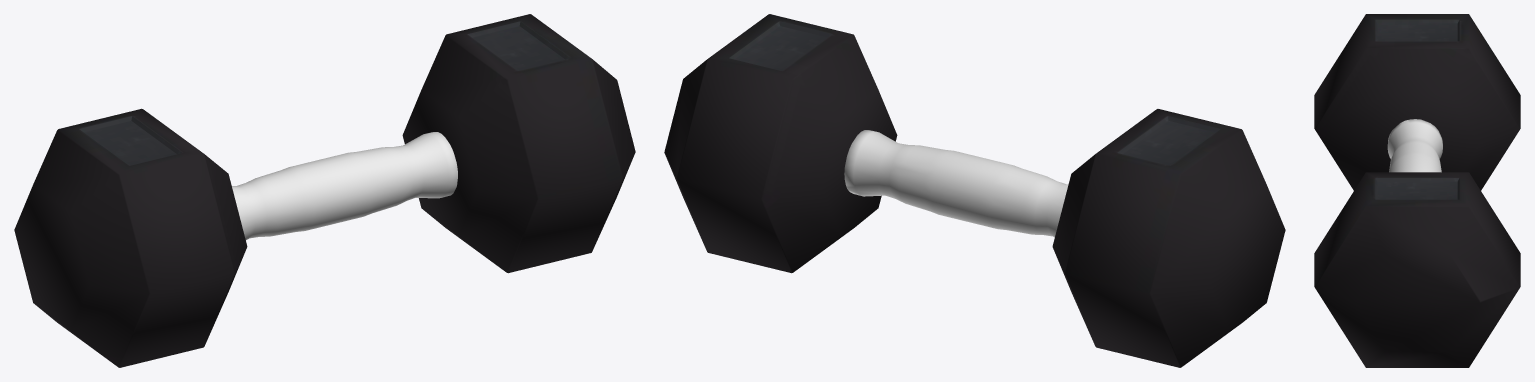
Rendered from haltere_c.glb.
3 renders of one model, left to right at view 1: azimuth 30°, elevation 25°; view 2: azimuth 150°, elevation 25°; view 3: azimuth 270°, elevation 25°, orthographic. The views are drawn at different scales.
Parts seen in each view (by area): view 1: RootNode; view 2: RootNode; view 3: RootNode.
Part boxes in pixels (bbox=[...]): RootNode: bbox=[14, 14, 635, 367]; RootNode: bbox=[664, 14, 1285, 367]; RootNode: bbox=[1314, 14, 1520, 367].
Bounding box in the file's own units: 0.2965 × 0.1008 × 0.116.
1 material, 1 textured.
